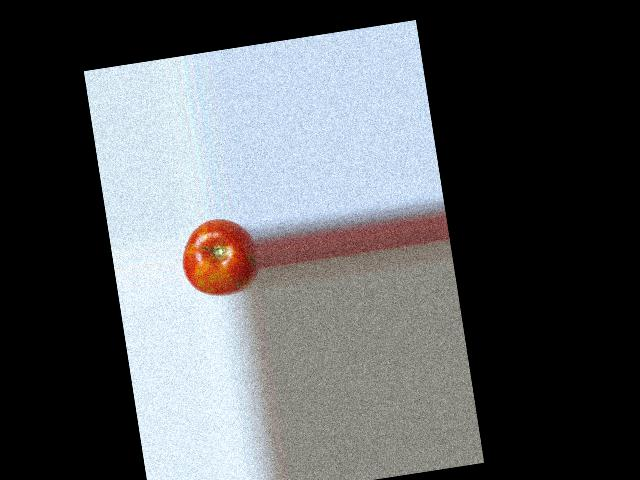tomato: (177, 213, 262, 301)
